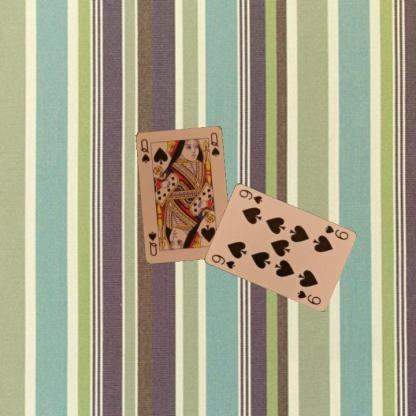9s: (322, 222, 349, 241), (208, 252, 236, 270)
Qs: (137, 136, 151, 164)
